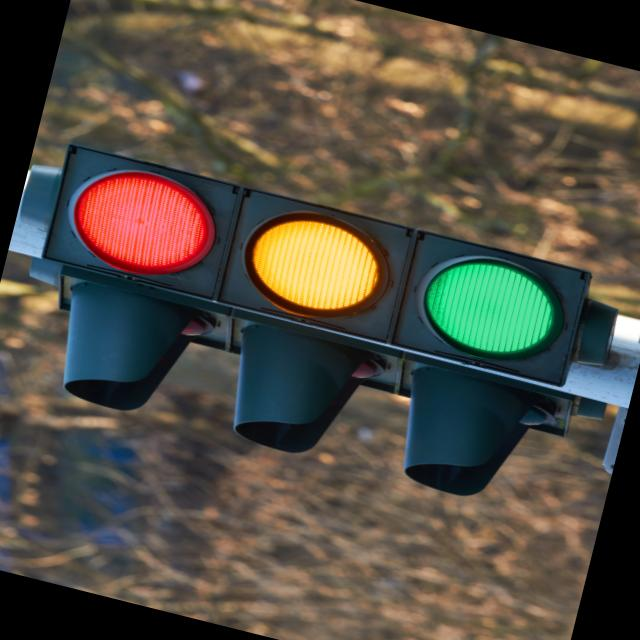green-lights: (412, 240, 578, 365)
red-lights: (52, 153, 226, 297)
yellow-lights: (221, 204, 402, 326)
